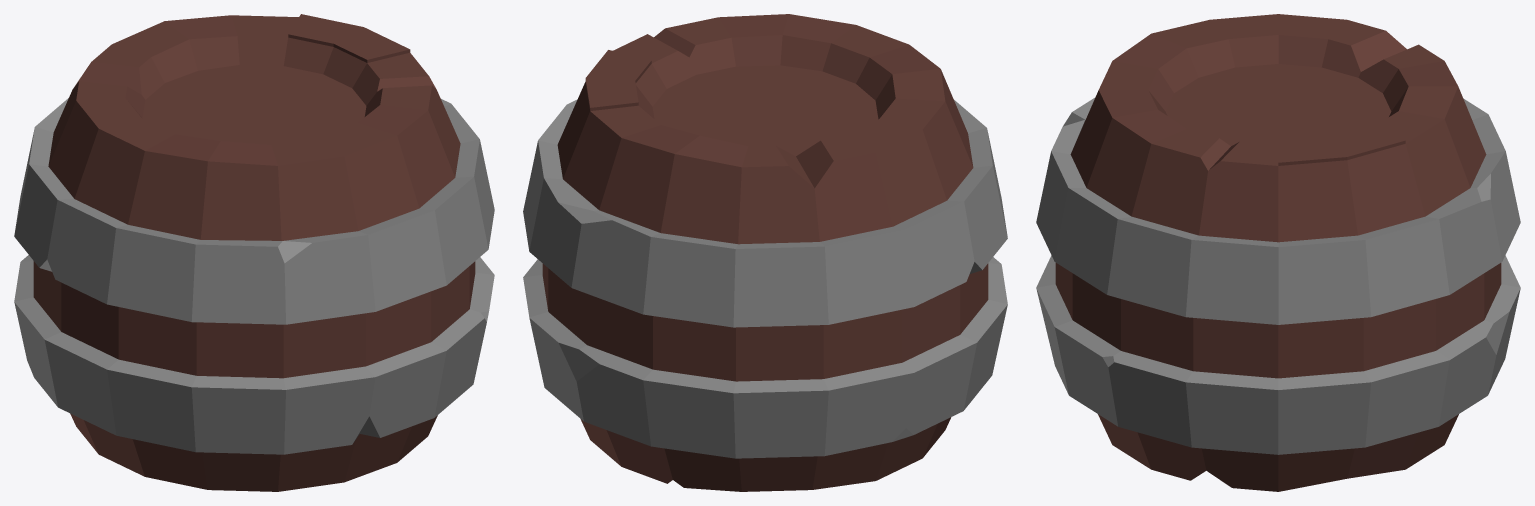
File: barrel.glb
3 views of the same model, side by side, from view 1: azimuth 30°, elevation 25°; view 2: azimuth 150°, elevation 25°; view 3: azimuth 270°, elevation 25° (orthographic).
Visible parts, largest first — view 1: Wood, Metal; view 2: Wood, Metal; view 3: Wood, Metal.
Boxes of the visible parts, box(x1,y1,x2,y2) form: Wood: box(33, 14, 475, 491); Metal: box(14, 98, 494, 454); Wood: box(542, 14, 988, 491); Metal: box(523, 99, 1007, 458); Wood: box(1055, 14, 1501, 491); Metal: box(1036, 97, 1520, 454).
Size of the model in its own units: 2.69 by 2.02 by 2.7.
